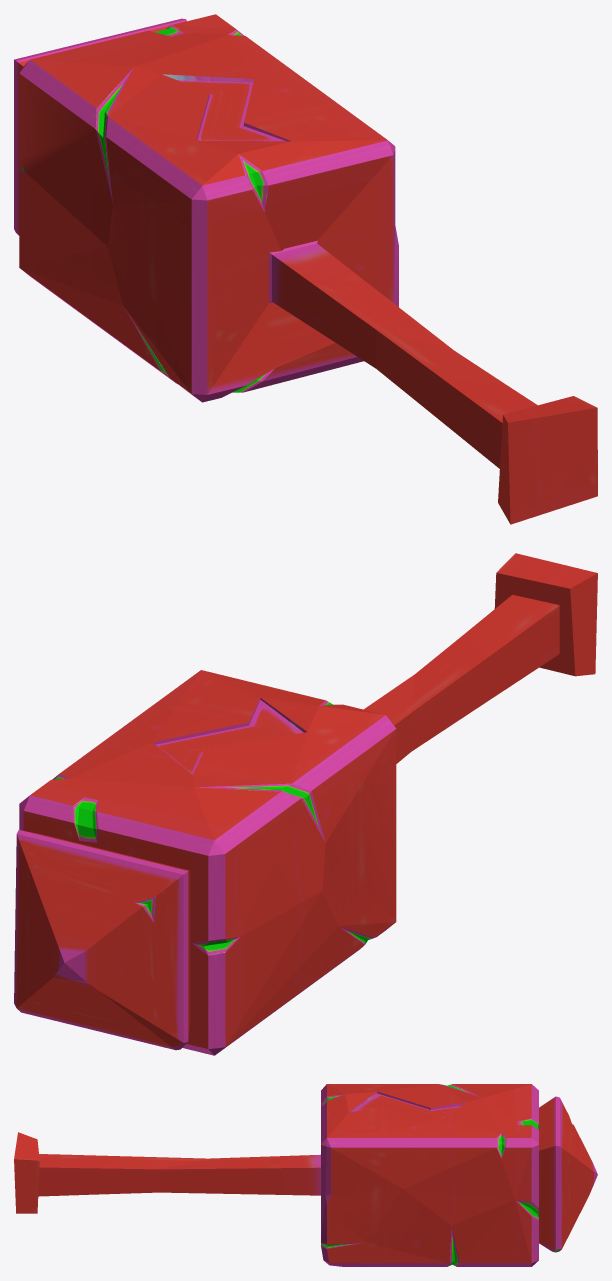
Rendered from gaussmeter.obj.
3 renders of one model, top to bottom at view 1: azimuth 30°, elevation 25°; view 2: azimuth 150°, elevation 25°; view 3: azimuth 270°, elevation 25°, orthographic. The views are drawn at different scales.
Parts seen in each view (by area): view 1: gaussmeter; view 2: gaussmeter; view 3: gaussmeter.
Boxes of the visible parts, x1=… form: gaussmeter: x1=14, y1=14, x2=597, y2=524; gaussmeter: x1=14, y1=553, x2=597, y2=1055; gaussmeter: x1=14, y1=1084, x2=597, y2=1266.
Size of the model in its own units: 0.7766 by 0.7932 by 3.05.
1 material, 1 textured.
